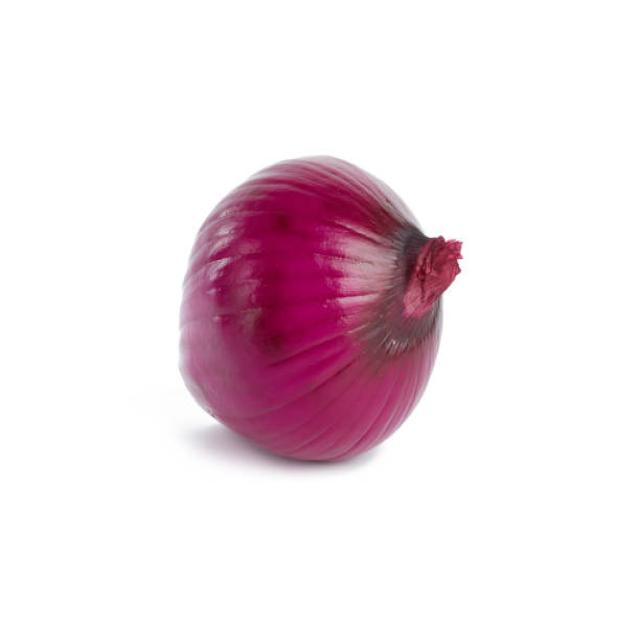onion: (176, 136, 443, 473)
